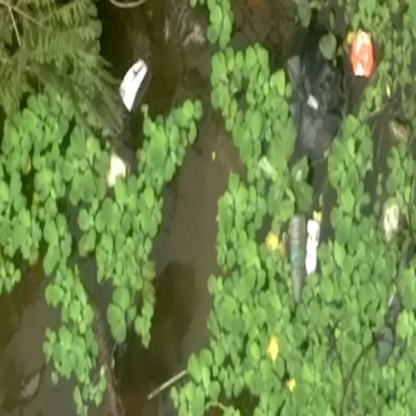milk-box: (345, 23, 383, 83)
